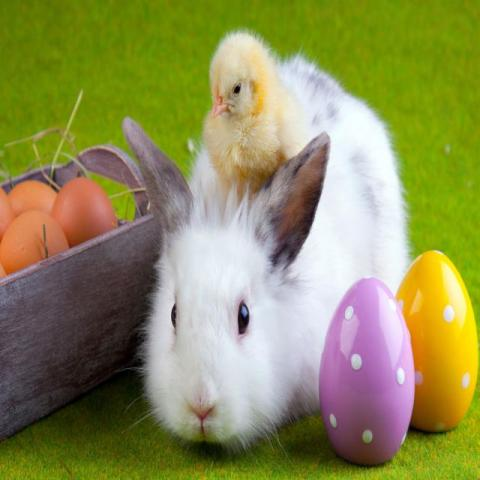bird: (202, 30, 310, 225)
small_animal: (119, 29, 413, 454)
